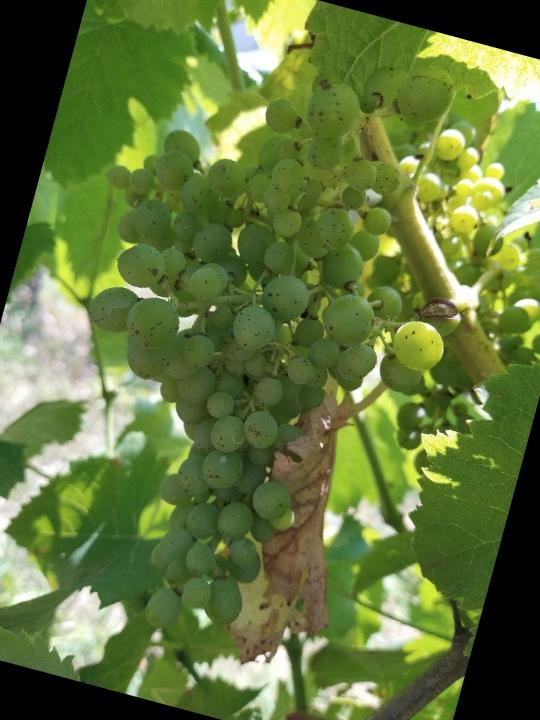grape: (0, 0, 523, 684)
